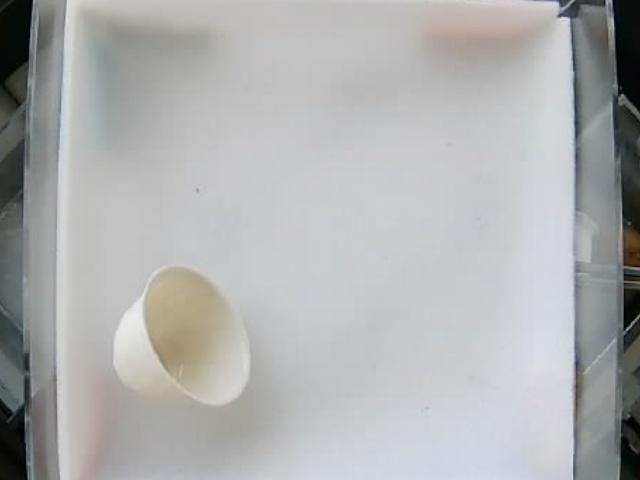Cup: (113, 268, 254, 406)
